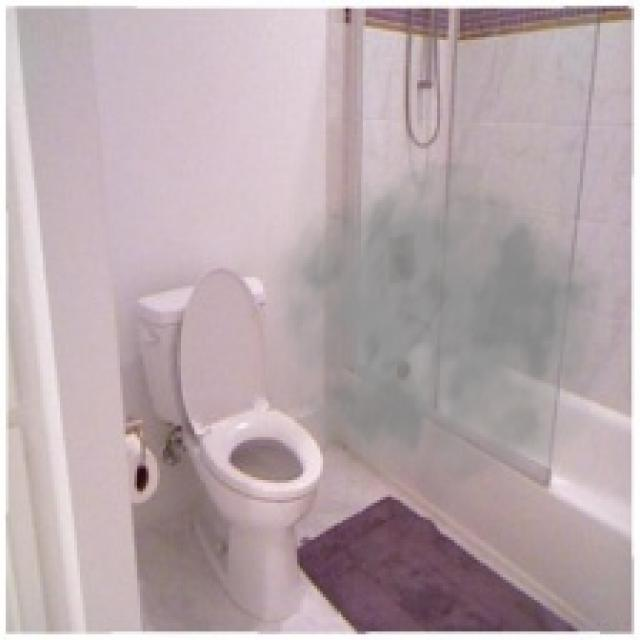smoke: (266, 157, 634, 529)
